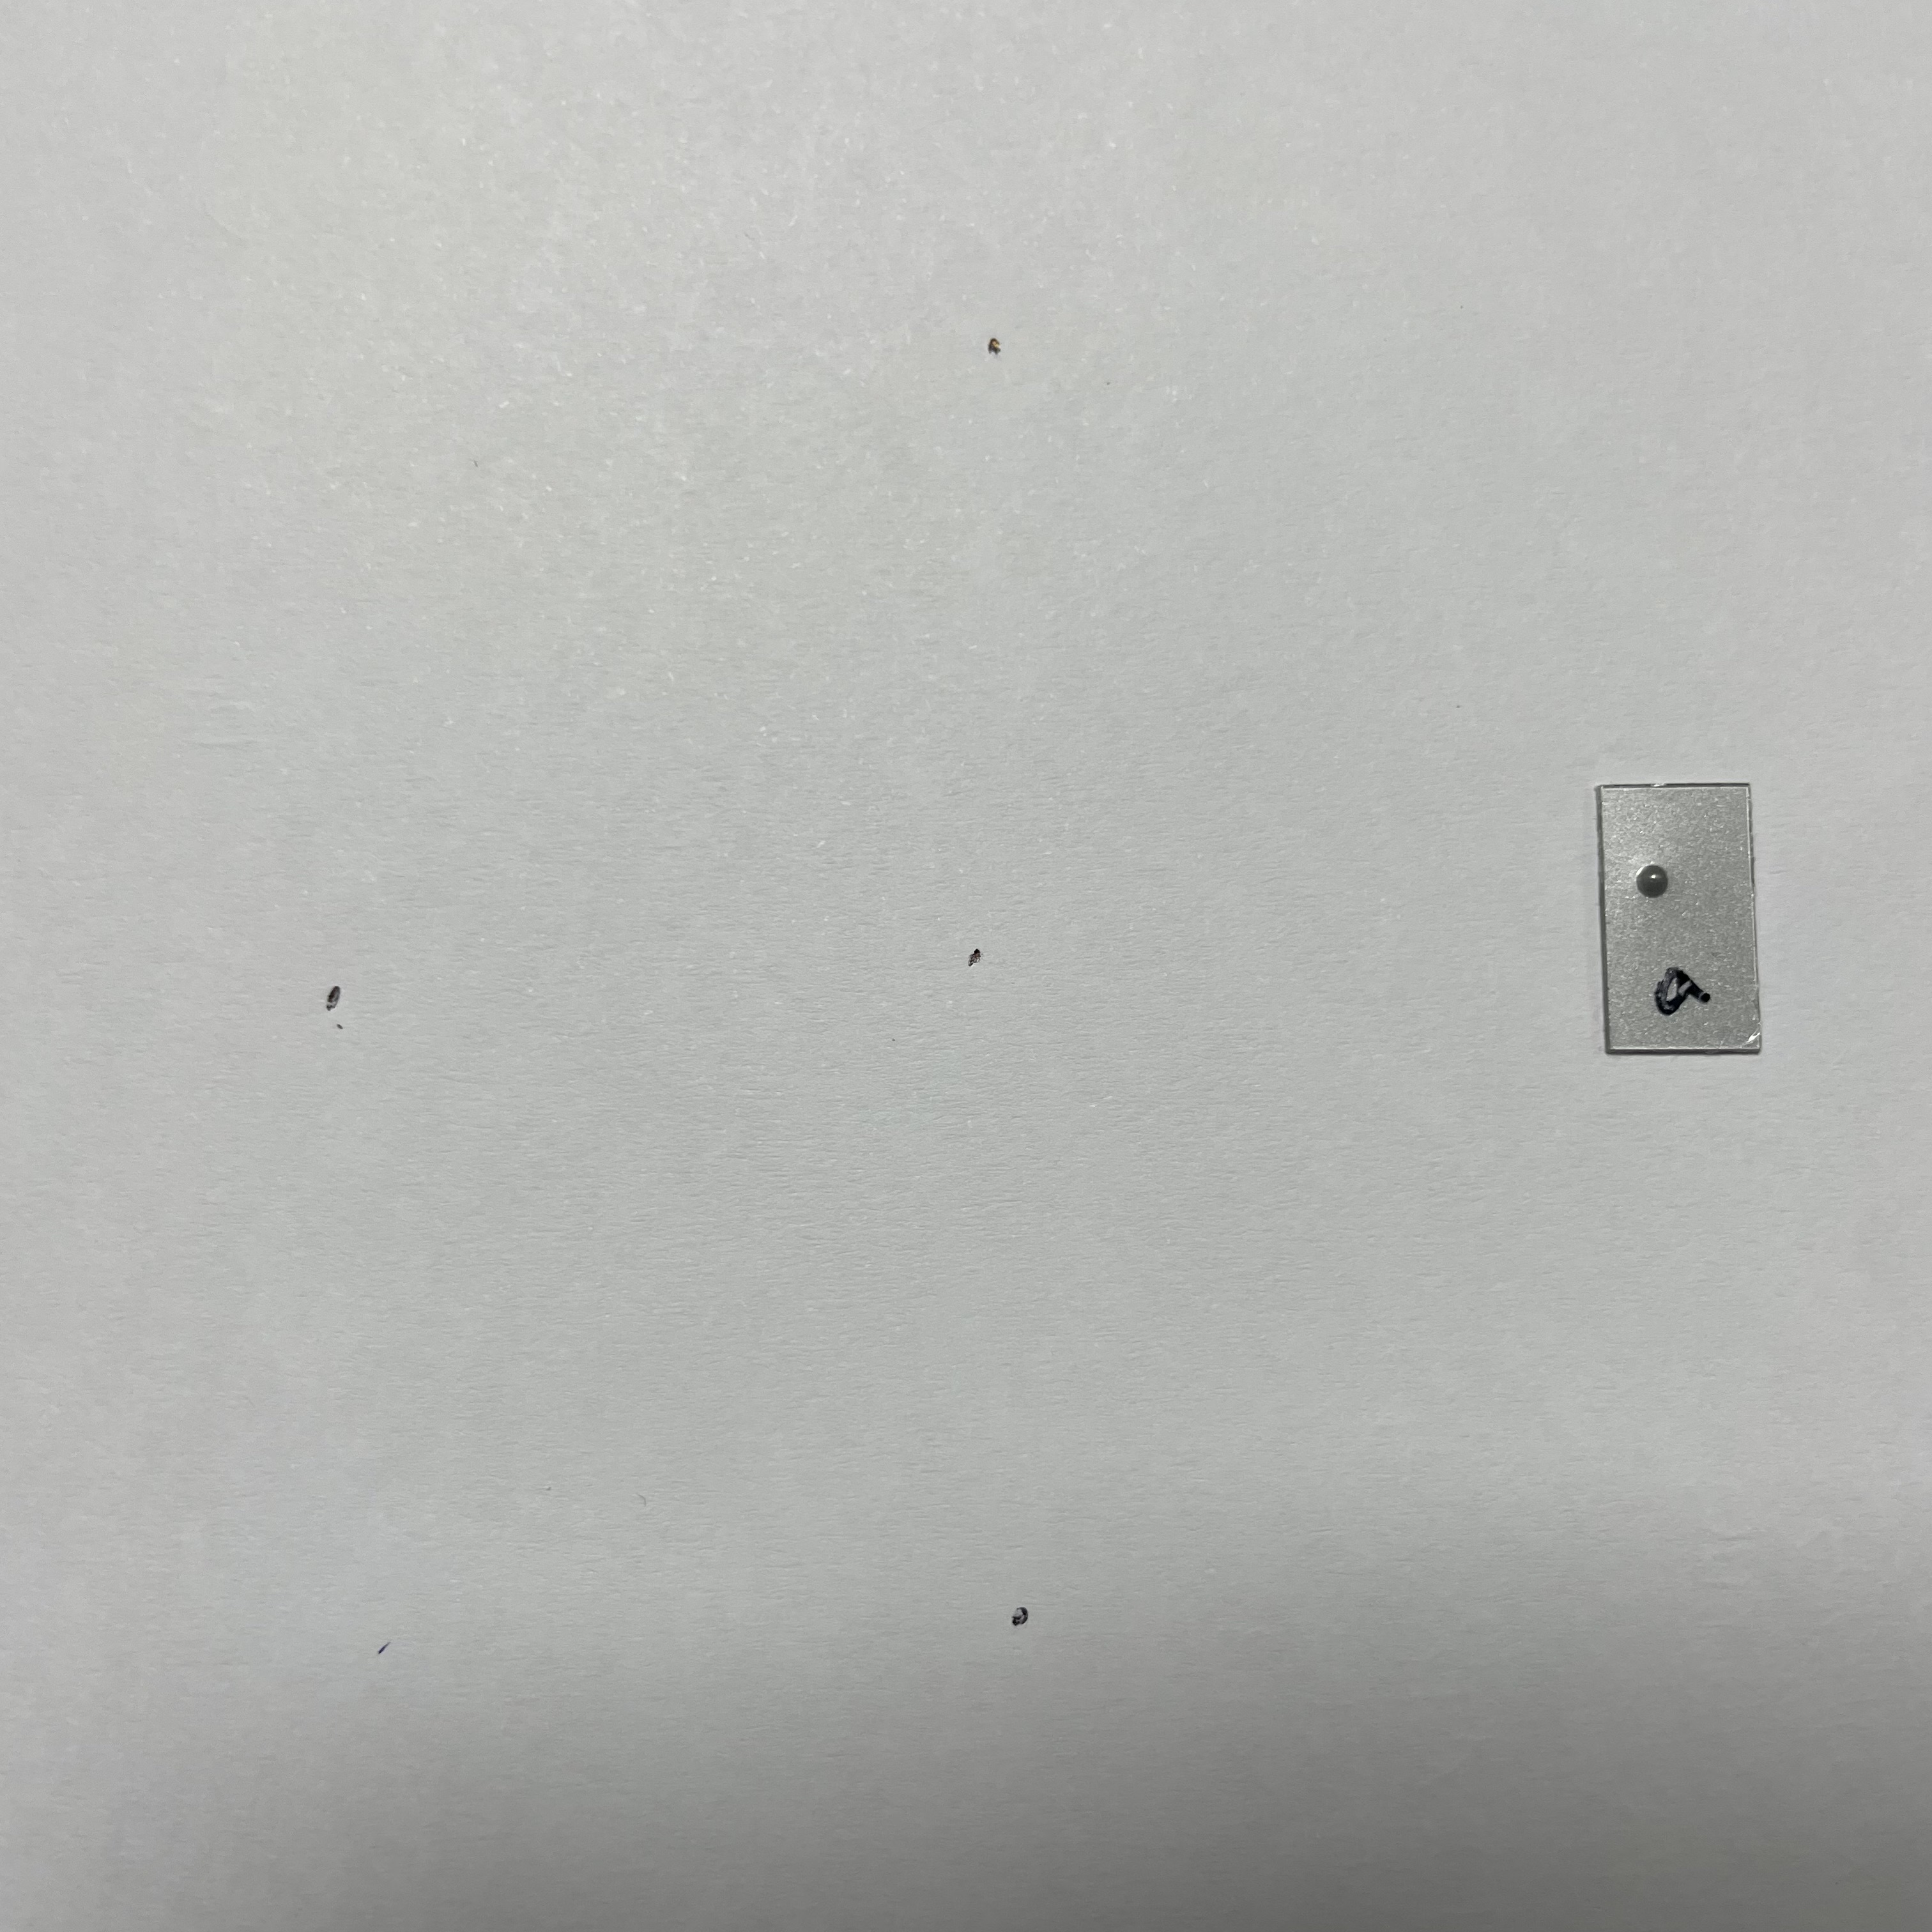a: (1626, 852, 1716, 973)
